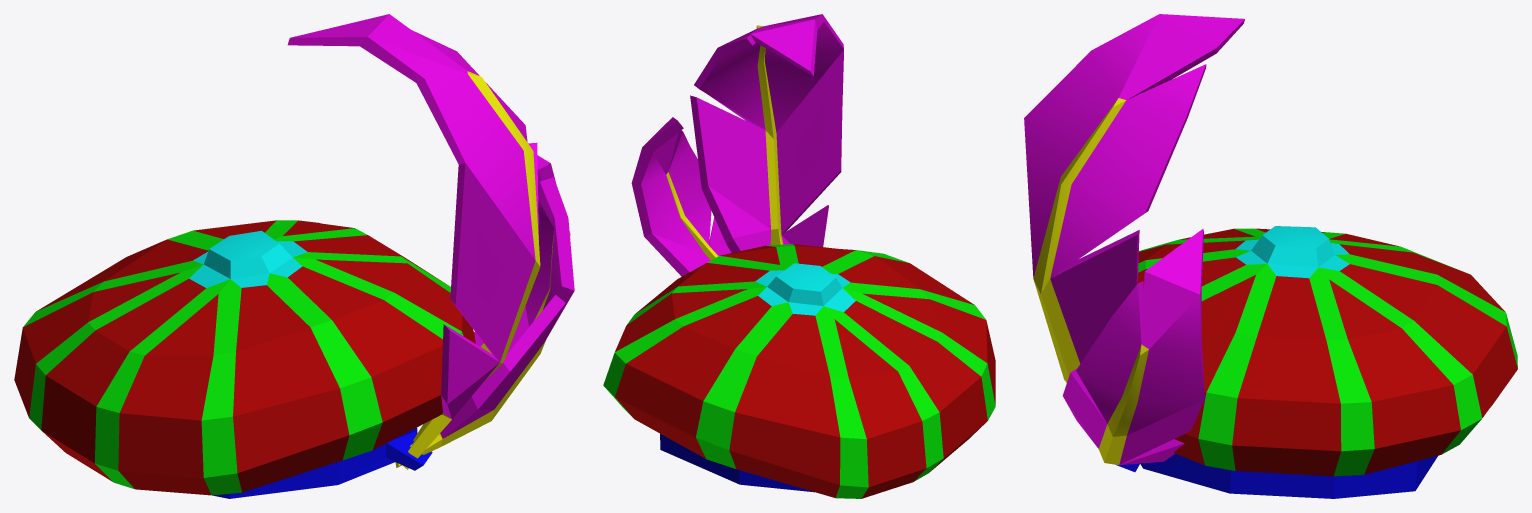
File: Chr_HeadCoverings_BaseHair_Static_03.fbx
The picture shows the model from 3 angles, left to right: view 1: azimuth 30°, elevation 25°; view 2: azimuth 150°, elevation 25°; view 3: azimuth 270°, elevation 25°; orthographic projection. The views are drawn at different scales.
Visible parts, largest first — view 1: Chr_HeadCoverings_Base_Hair_03; view 2: Chr_HeadCoverings_Base_Hair_03; view 3: Chr_HeadCoverings_Base_Hair_03.
Part boxes in pixels (x1,y1,x2,y2): Chr_HeadCoverings_Base_Hair_03: (14,14,574,498); Chr_HeadCoverings_Base_Hair_03: (603,14,995,498); Chr_HeadCoverings_Base_Hair_03: (1024,14,1517,498).
Bounding box in the file's own units: 46.22 × 44.05 × 43.88.
